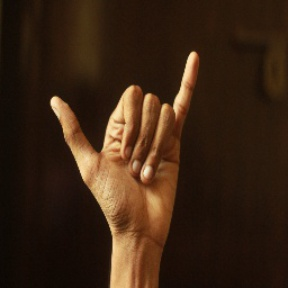J: (49, 38, 200, 220)
